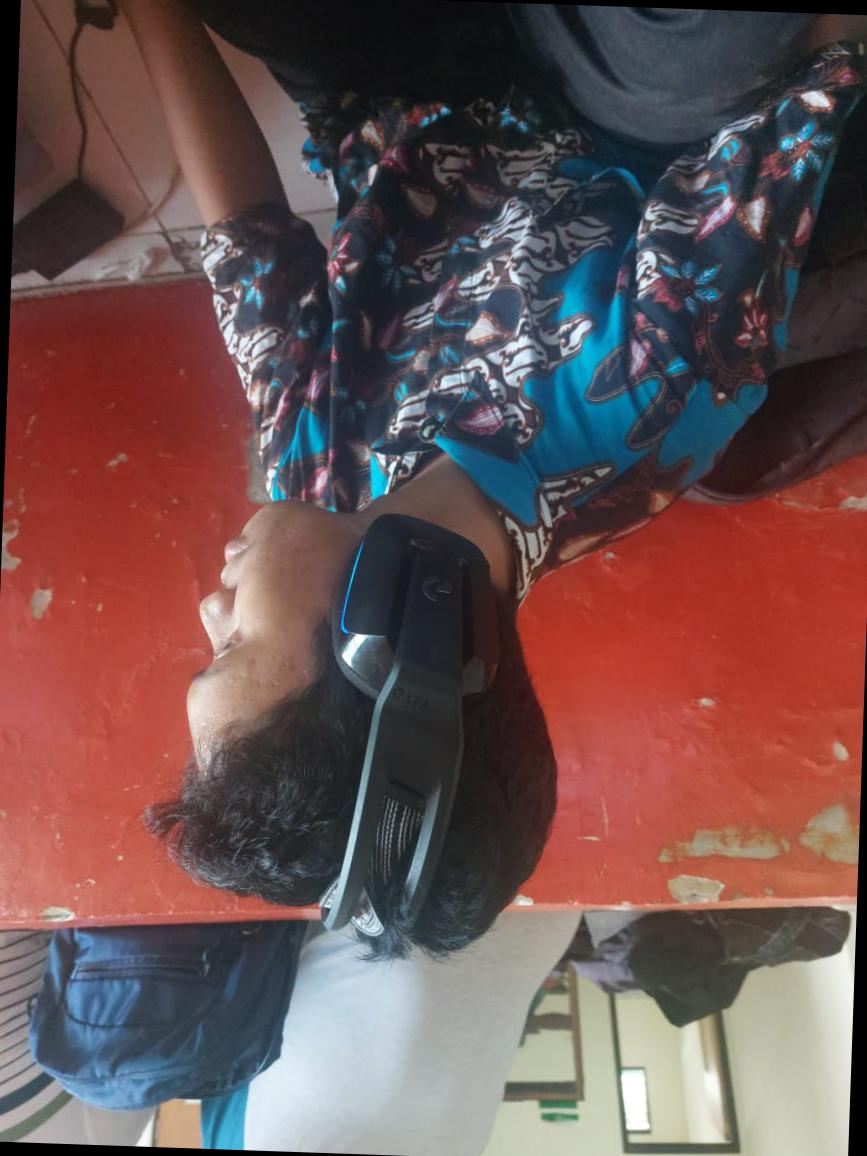Headset: (296, 502, 520, 947)
